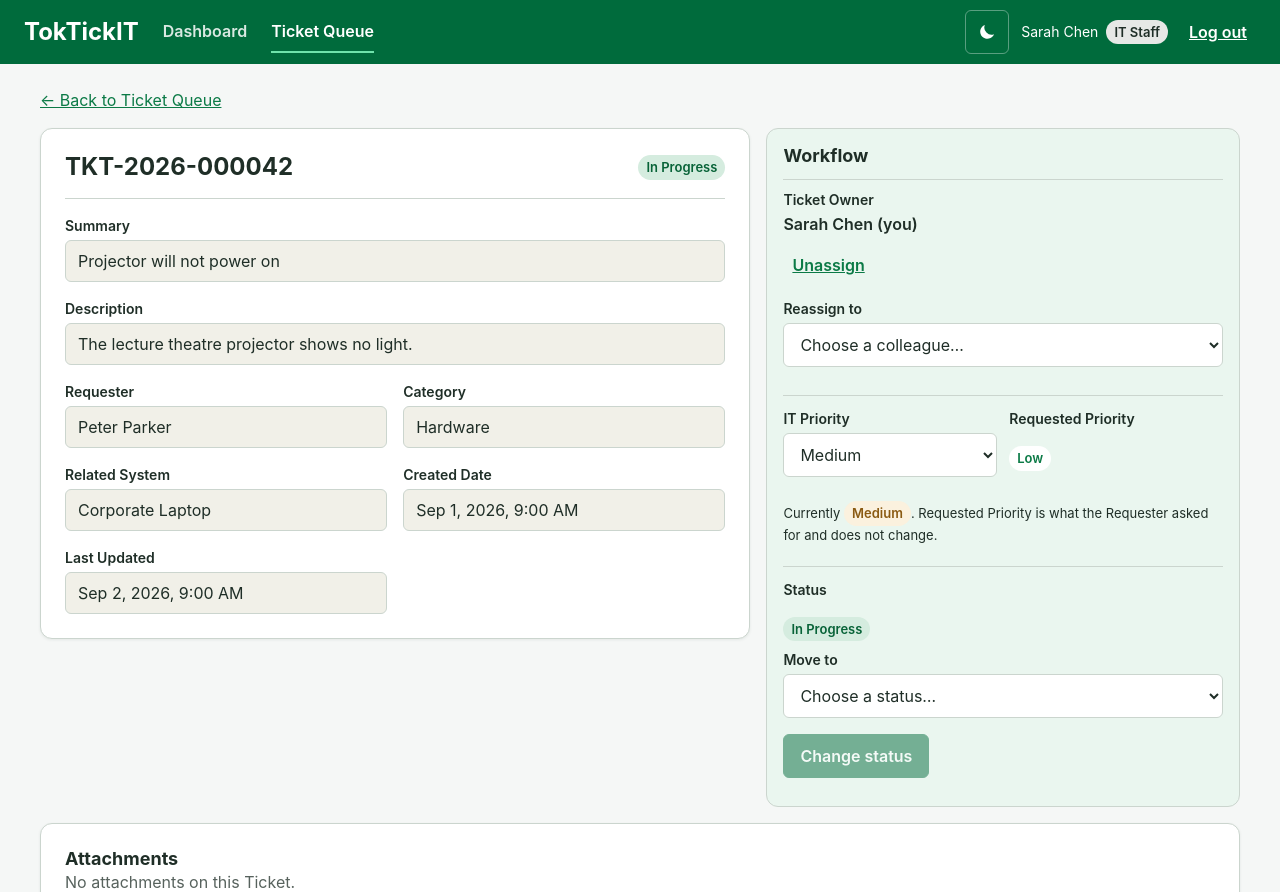
it: UI-14 a refused change (AC-29) › puts a stale priority change back to the value the Ticket really has
Expected: the heading "TKT-2026-000042" is shown, [65, 153, 293, 182]
Select "Urgent" in the dropdown labelled "IT Priority" at (890, 455), box [783, 433, 997, 477]
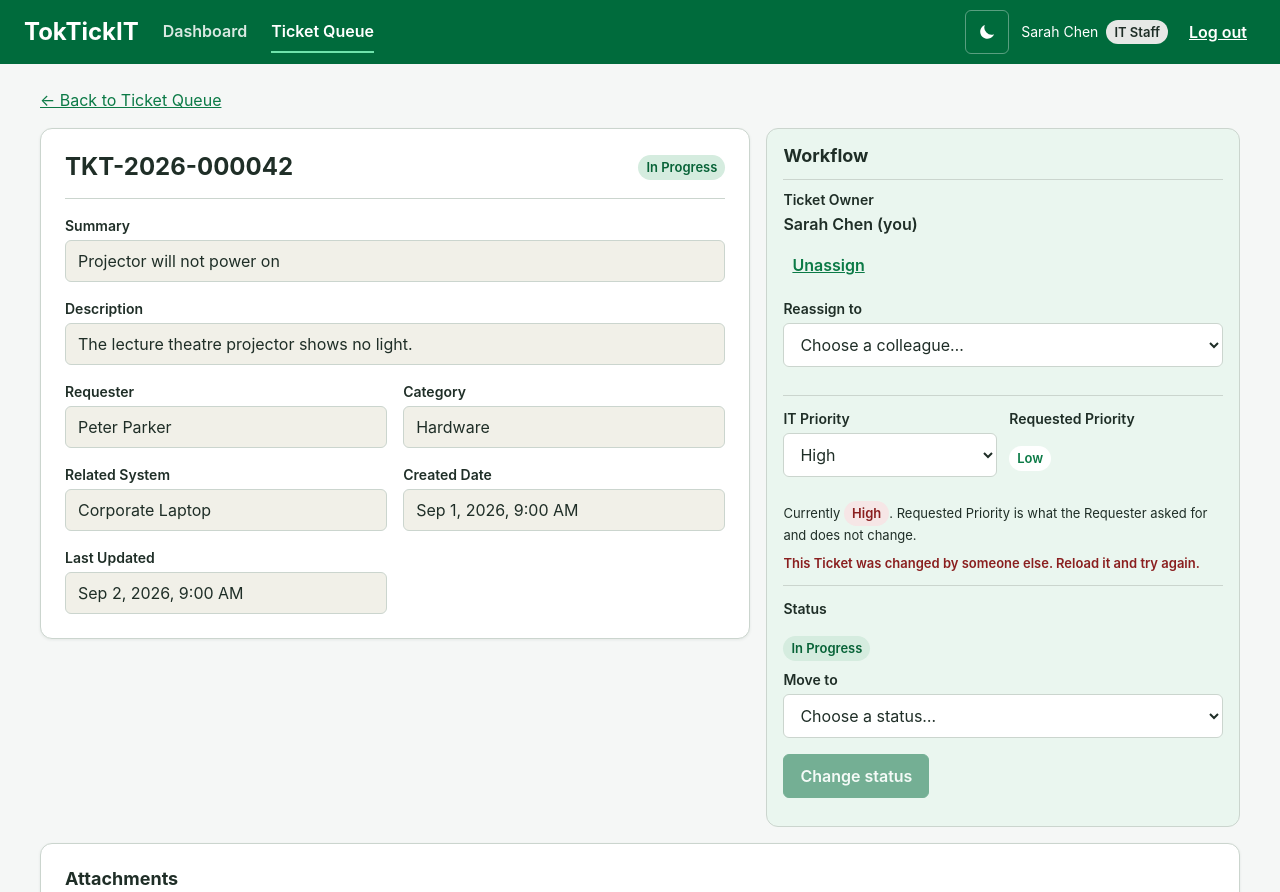
Now the text "This Ticket was changed by someone else. Reload it and try again." is shown, box [783, 554, 1223, 573]
